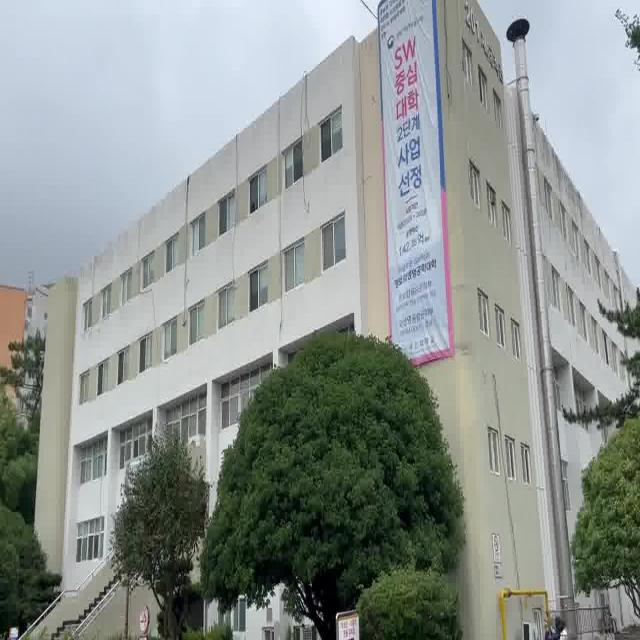building: (53, 90, 376, 370)
